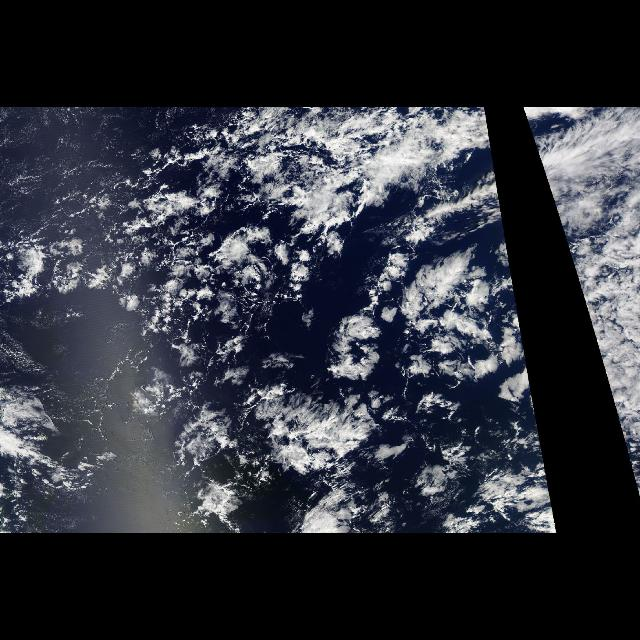Flower: (103, 154, 490, 373)
Sugar: (28, 186, 312, 330)
